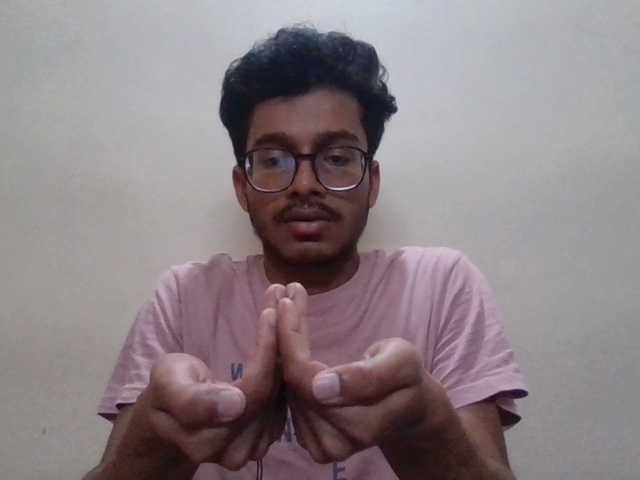tomorrow: (118, 281, 443, 460)
